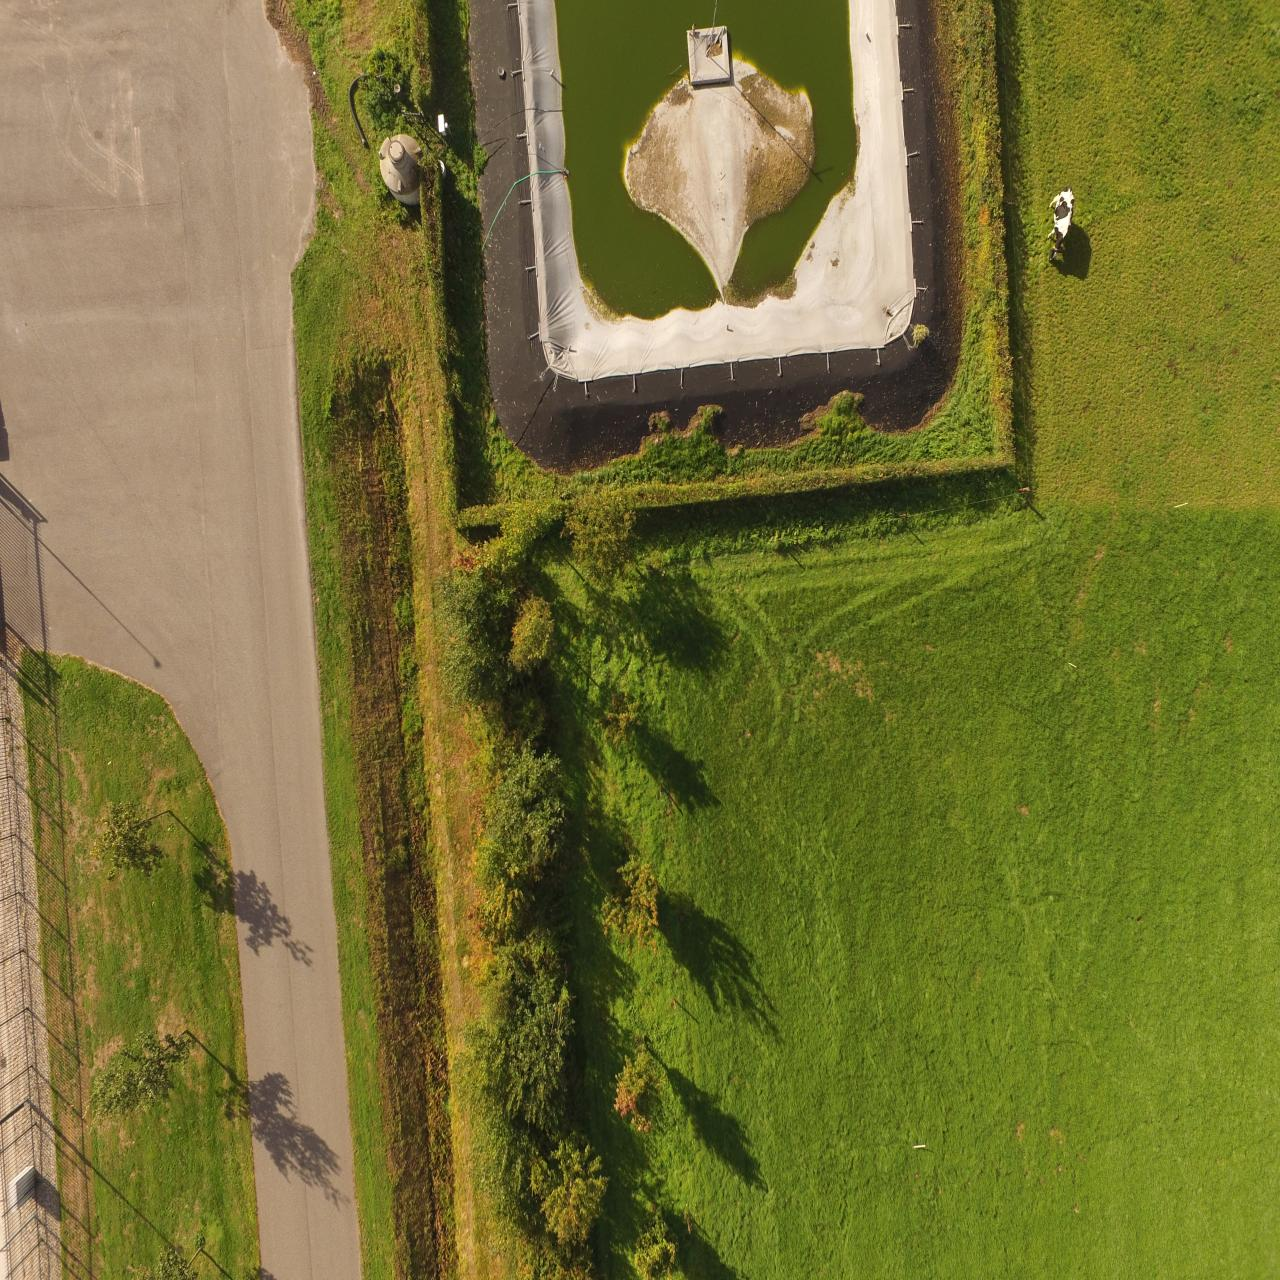cow: (1043, 182, 1077, 264)
